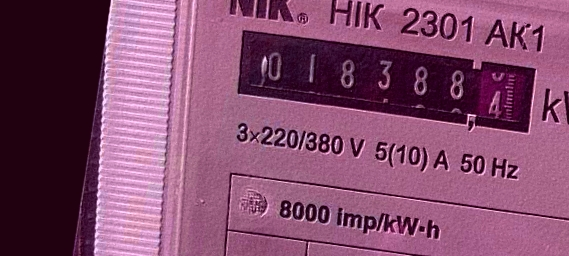0: (261, 47, 287, 85)
1: (300, 47, 323, 87)
3: (372, 56, 397, 94)
4: (483, 85, 507, 121)
8: (444, 65, 470, 104), (334, 54, 360, 92), (408, 63, 433, 100)
screen: (223, 14, 551, 151)
